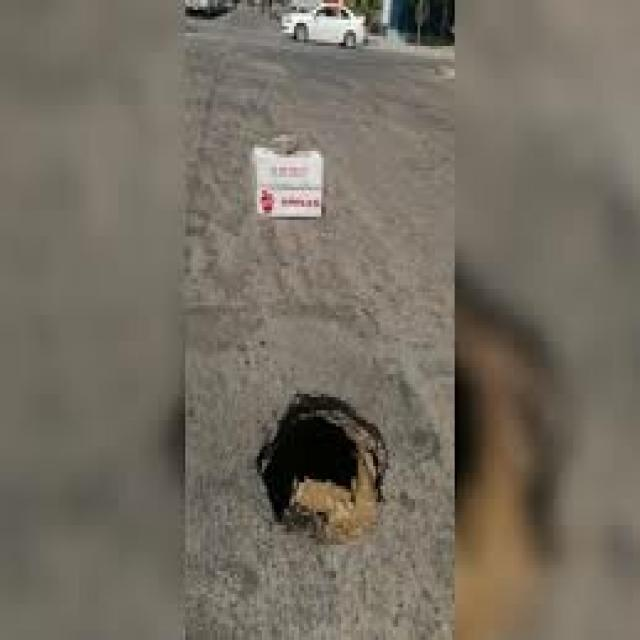Pothole: (237, 322, 415, 588)
